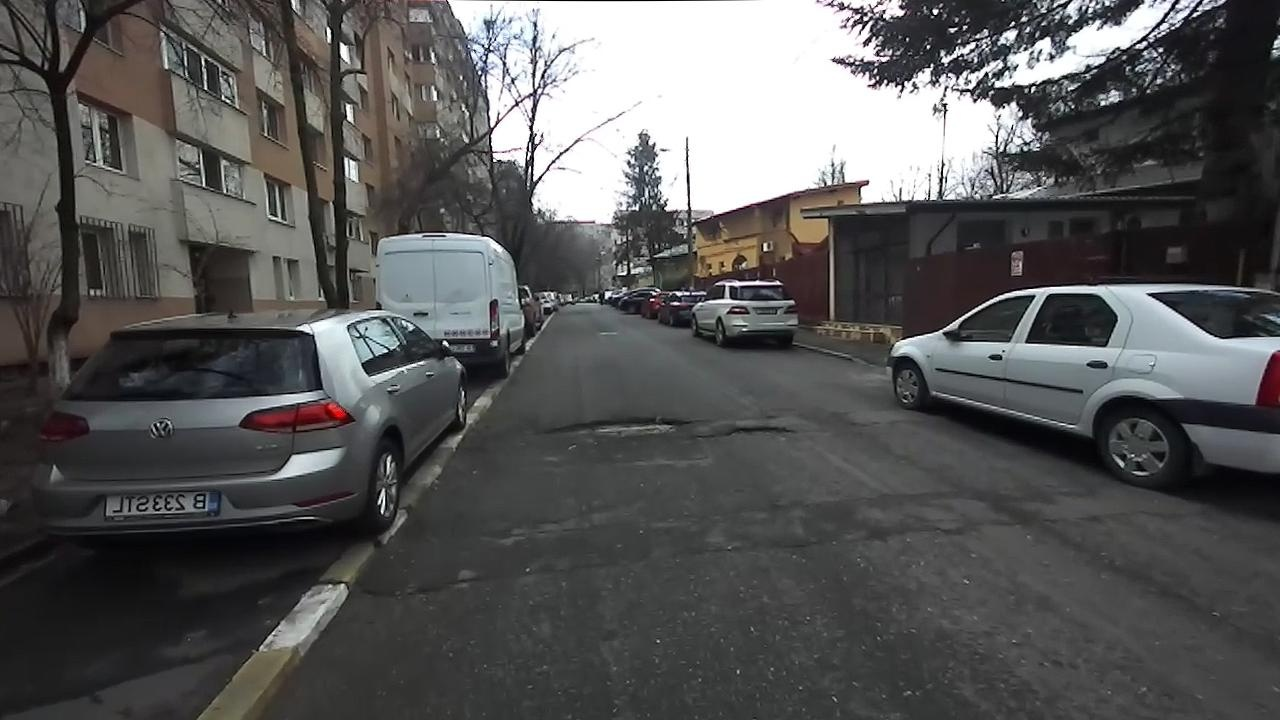pothole: (540, 412, 689, 441), (364, 581, 472, 603), (725, 422, 798, 437), (693, 432, 718, 438)
